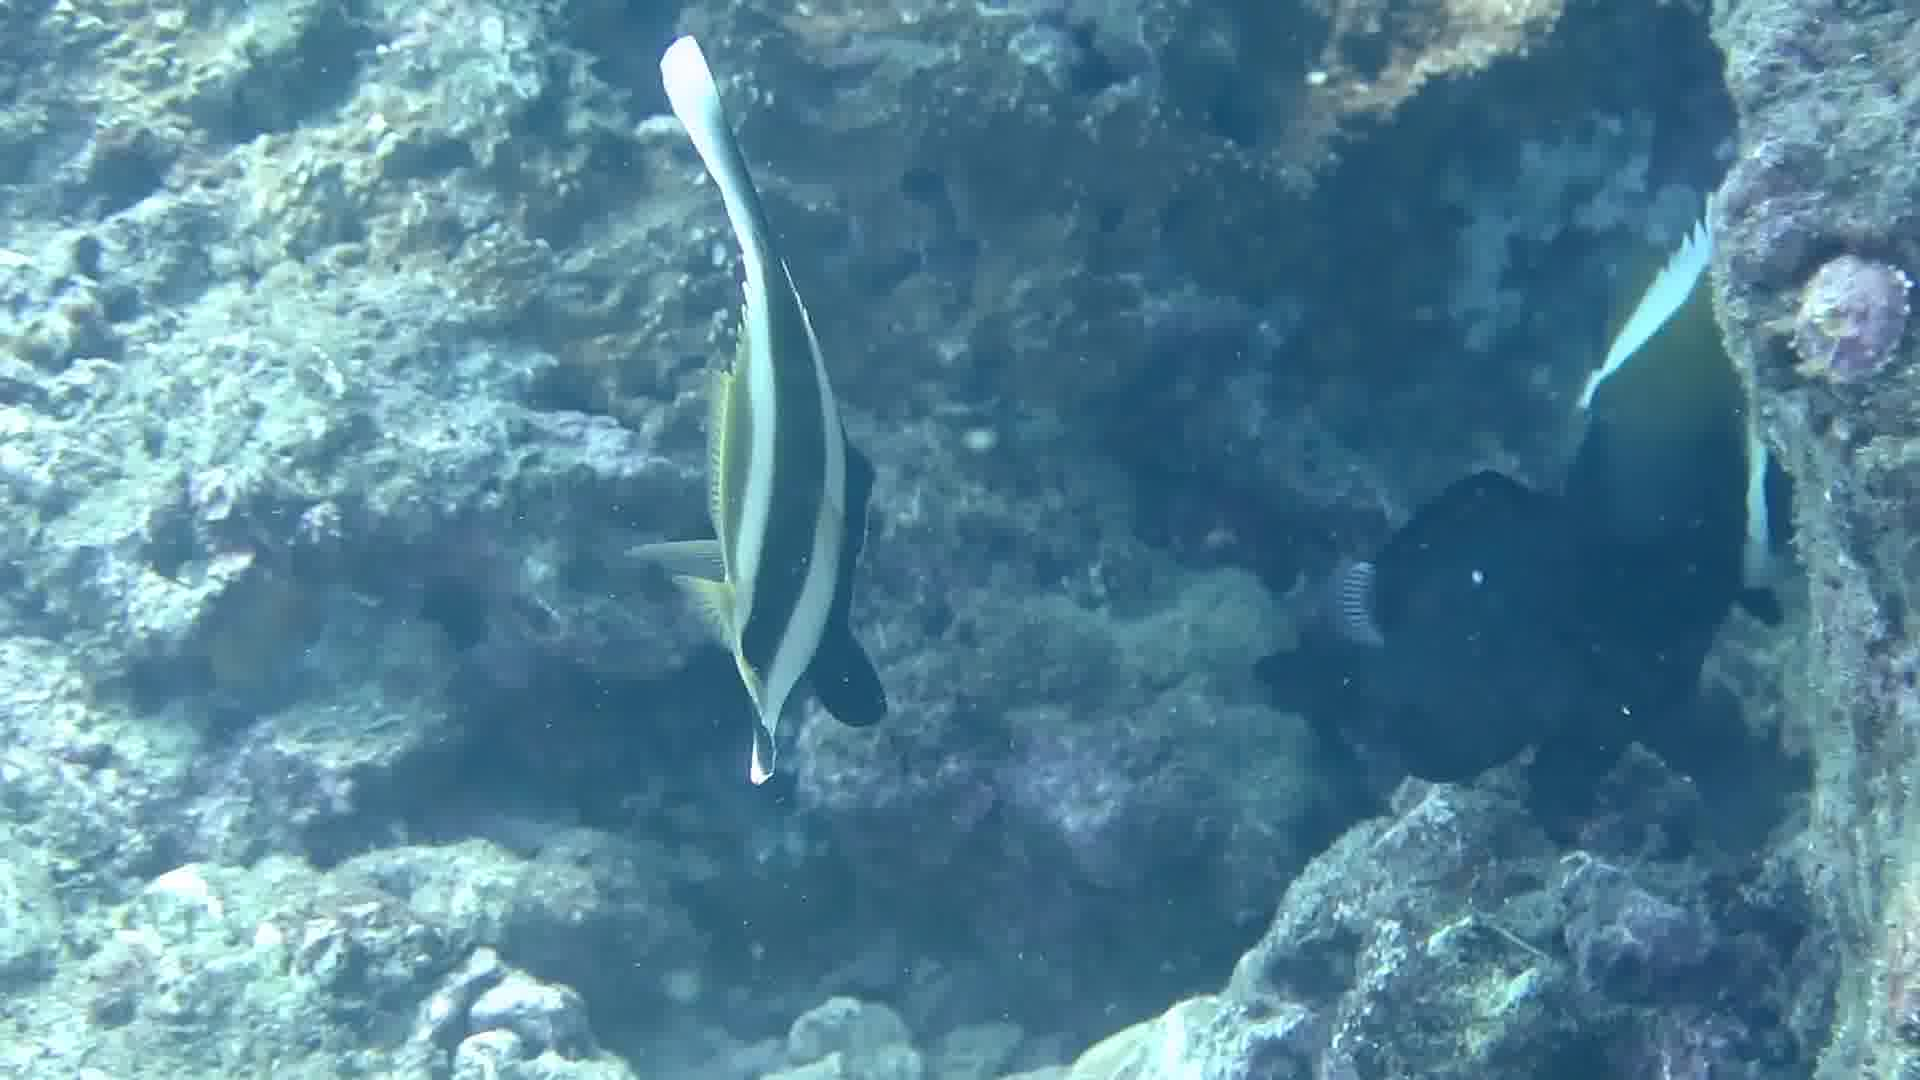Heniochus chrysostomus: (480, 12, 1022, 781)
